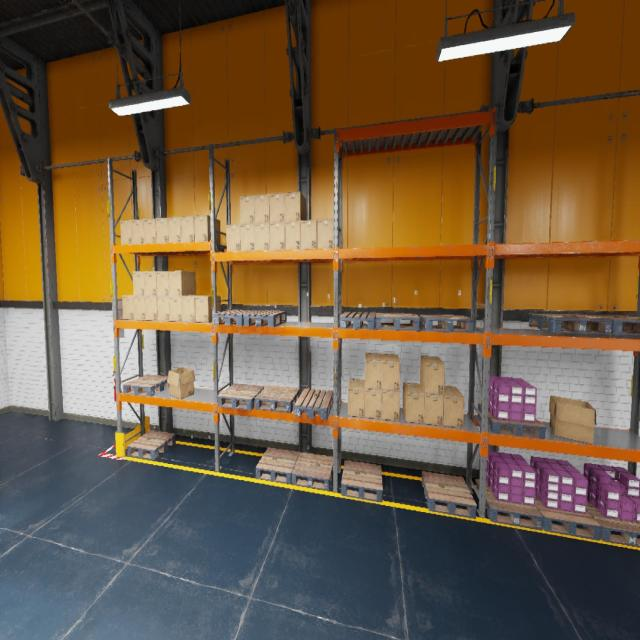box: (549, 396, 596, 444), (420, 384, 444, 425), (420, 356, 445, 394), (167, 367, 195, 399), (443, 386, 464, 428), (403, 383, 424, 424), (194, 215, 220, 244), (381, 354, 400, 391), (168, 271, 196, 296), (195, 295, 220, 322), (182, 295, 206, 322), (348, 379, 365, 417), (285, 191, 306, 221), (365, 353, 382, 389), (382, 390, 399, 421), (365, 389, 382, 419), (317, 219, 334, 249), (301, 220, 317, 249), (285, 221, 301, 250), (269, 193, 285, 222), (254, 194, 270, 223), (254, 222, 270, 250), (240, 224, 255, 252), (240, 195, 254, 224), (270, 222, 284, 250), (227, 224, 240, 251), (181, 216, 194, 242), (143, 218, 156, 244), (169, 296, 182, 321), (157, 296, 170, 321), (145, 296, 158, 321), (156, 271, 169, 296), (144, 271, 157, 296), (168, 217, 181, 242), (156, 217, 168, 243), (122, 295, 134, 320), (132, 271, 144, 296), (132, 219, 144, 244), (120, 220, 132, 245), (134, 296, 146, 320)
pallets: (475, 479, 543, 530), (536, 496, 602, 540), (422, 471, 476, 519), (586, 500, 640, 547), (478, 404, 546, 439), (341, 460, 383, 502), (529, 314, 612, 334), (292, 452, 333, 491), (256, 448, 299, 484), (127, 430, 175, 460), (217, 383, 264, 410), (580, 314, 640, 335), (294, 388, 333, 420), (255, 385, 299, 413), (123, 374, 169, 396), (420, 314, 474, 332), (376, 313, 420, 331), (243, 310, 287, 326), (213, 310, 258, 325), (340, 312, 376, 329)
